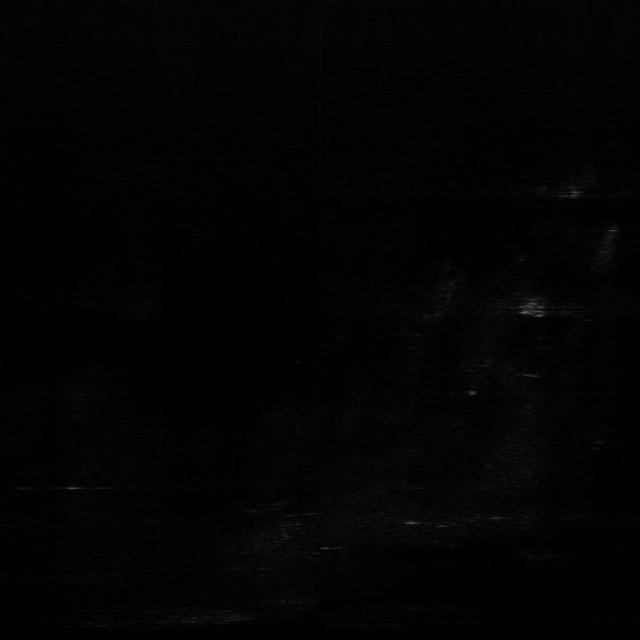rov: (517, 298, 547, 320)
